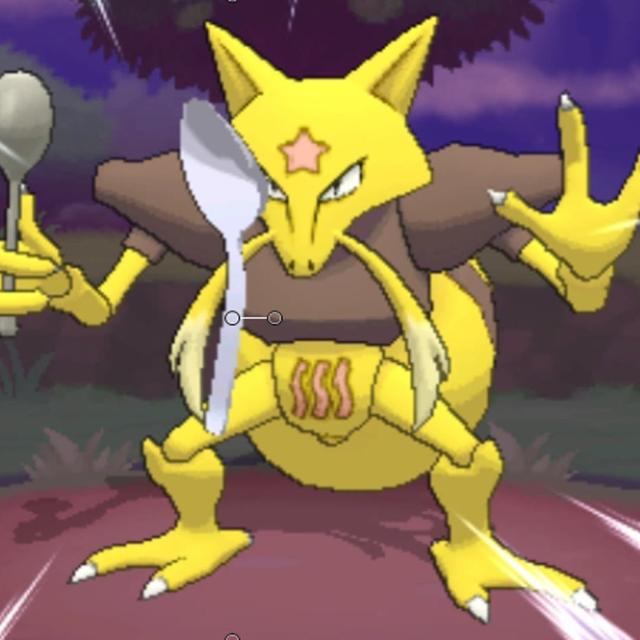Kadabra: (158, 19, 504, 495)
